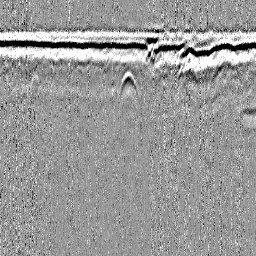cavity: (118, 69, 139, 102)
